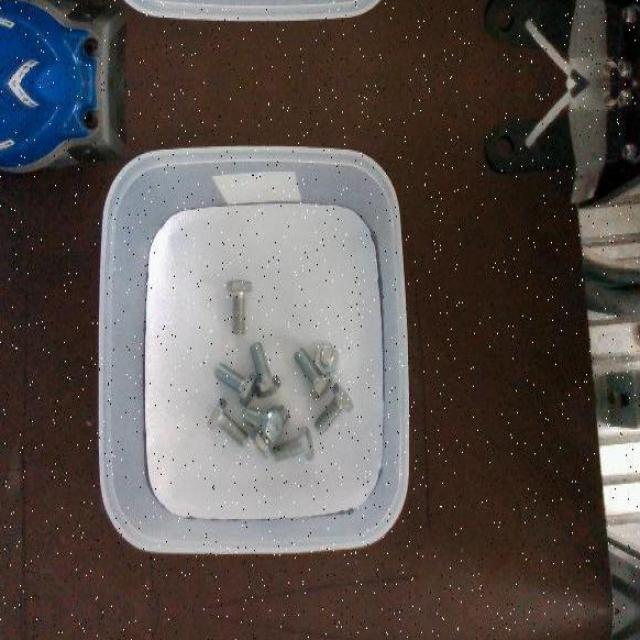screw: (313, 380, 354, 435), (294, 346, 333, 401), (207, 398, 247, 447), (214, 360, 258, 404), (250, 341, 279, 398), (272, 424, 314, 462), (228, 278, 254, 334), (244, 406, 283, 442), (314, 342, 338, 374)
